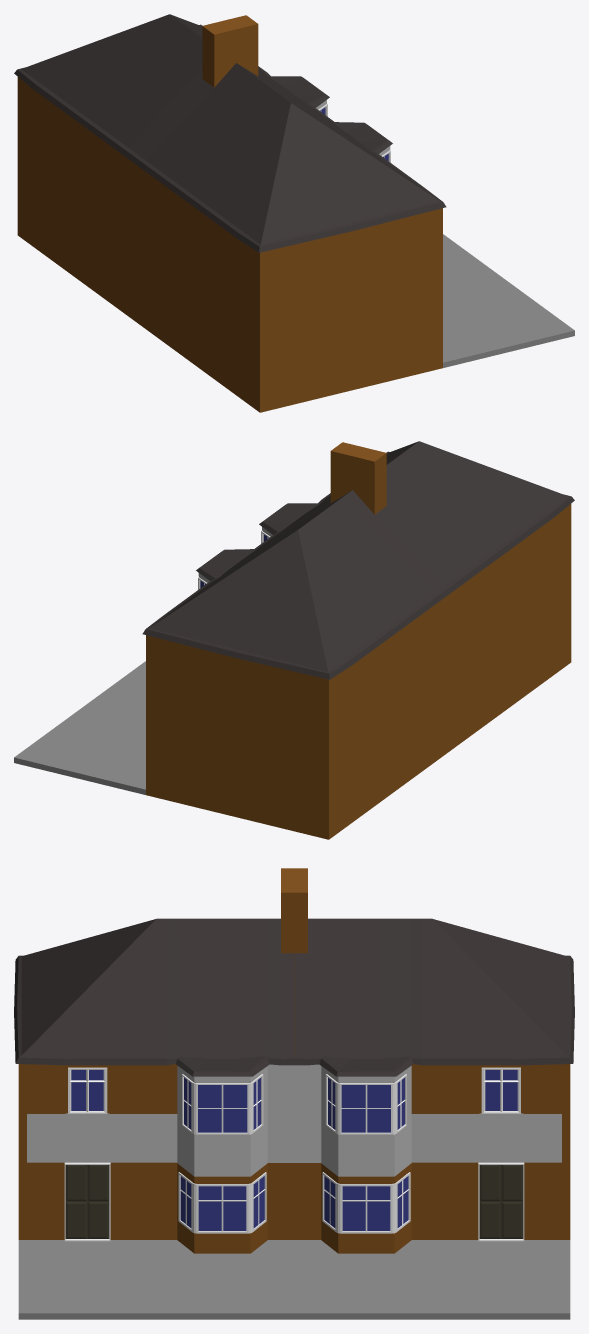
Rendered from party House.fbx.
3 views of the same model, one above another, from view 1: azimuth 30°, elevation 25°; view 2: azimuth 150°, elevation 25°; view 3: azimuth 270°, elevation 25° (orthographic). The views are drawn at different scales.
Parts seen in each view (by area): view 1: House; view 2: House; view 3: House.
Boxes of the visible parts, x1,y1,x2,y2 form: House: [14, 14, 574, 412]; House: [14, 441, 574, 839]; House: [14, 868, 574, 1319].
Size of the model in its own units: 12131 by 10078 by 16264.
